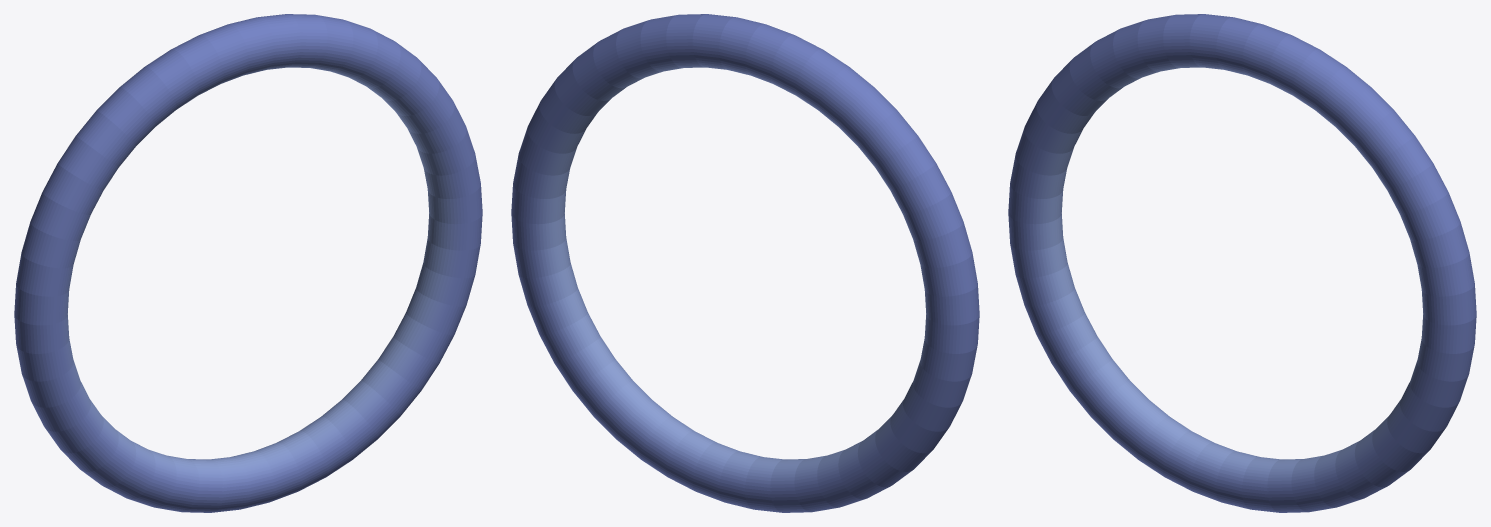
3 renders of one model, left to right at view 1: azimuth 30°, elevation 25°; view 2: azimuth 150°, elevation 25°; view 3: azimuth 330°, elevation 25°, orthographic.
Visible parts, largest first — view 1: world; view 2: world; view 3: world.
Part boxes in pixels (x1,y1,x2,y2): world: (14, 14, 482, 512); world: (511, 14, 979, 512); world: (1008, 14, 1476, 512).
Bounding box in the file's own units: 25.2 × 25.15 × 2.53.
